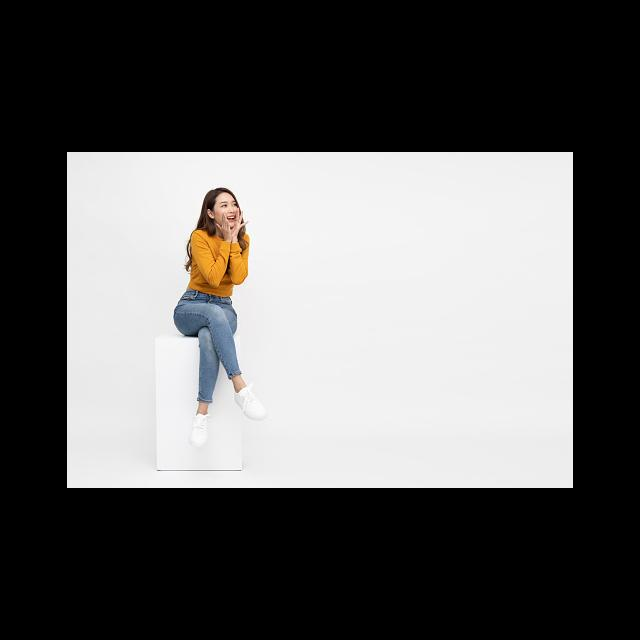female: (186, 187, 274, 250)
